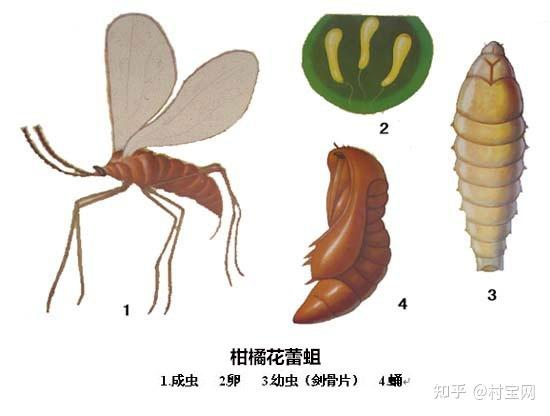Cecidomyiidae: (19, 9, 266, 316)
